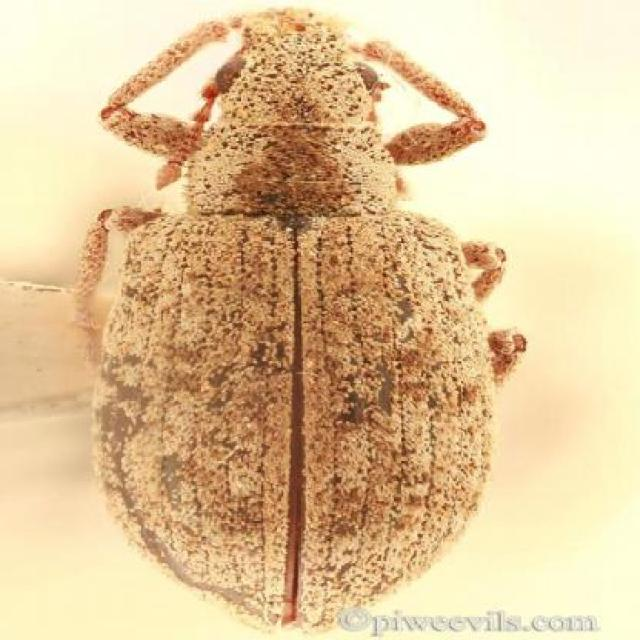rice-bug: (65, 9, 522, 633)
